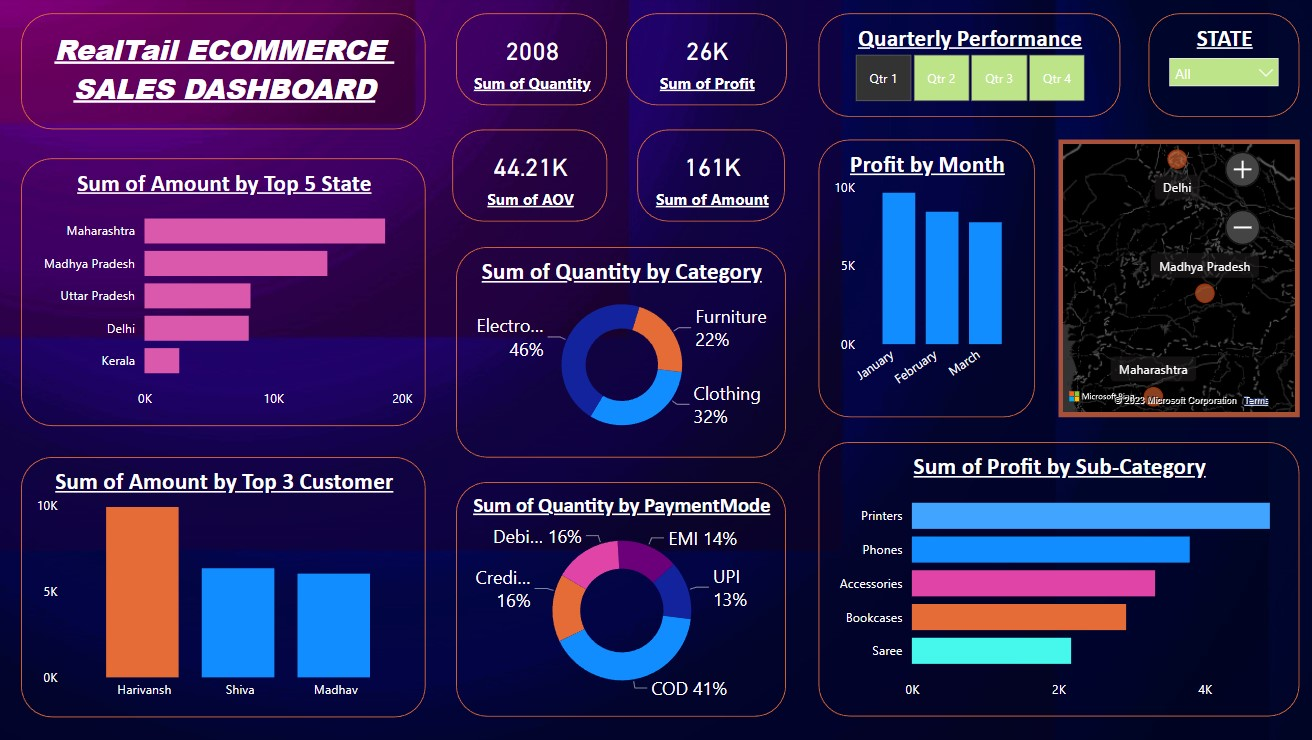

The dashboard page shown, as its layout file describes it:
{"tool":"powerbi","page":{"name":"SALE DASHBOARD","canvas":[1280,720],"ordinal":0},"visuals":[{"type":"columnChart","title":"Profit by Month","fields":{"Y":["Details.Profit"],"Category":["Orders.Order Date.Variation.Date Hierarchy.Month"]},"box":[793.6,137.5,208.6,267.7],"z":0},{"type":"barChart","fields":{"Y":["Details.Profit"],"Category":["Details.Sub-Category"]},"box":[793.1,429.5,463.8,264.8],"z":1000},{"type":"donutChart","fields":{"Y":["Details.Quantity"],"Series":["Details.Category"]},"box":[443.2,241.5,318.4,203.1],"z":2000},{"type":"donutChart","fields":{"Y":["Details.Quantity"],"Category":["Details.PaymentMode"]},"box":[443.2,467.9,318.4,226.4],"z":3000},{"type":"card","fields":{"Values":["Details.Amount"]},"box":[618.9,127.6,142.7,89.2],"z":4000},{"type":"card","fields":{"Values":["Details.AOV"]},"box":[440.5,127.6,149.6,89.2],"z":5000},{"type":"card","fields":{"Values":["Details.Quantity"]},"box":[443.2,15.1,145.5,89.2],"z":6000},{"type":"card","fields":{"Values":["Details.Profit"]},"box":[607.9,15.1,155.1,89.2],"z":7000},{"type":"barChart","title":"Sum of Amount by Top 5 State","fields":{"Category":["Orders.State"],"Y":["Details.Amount"]},"box":[24.1,155.6,390.8,258.1],"z":8000},{"type":"columnChart","title":"Sum of Amount by Top 3  Customer","fields":{"Category":["Orders.CustomerName"],"Y":["Details.Amount"]},"box":[24.1,443.8,390.8,250.9],"z":9000},{"type":"textbox","box":[24.1,15.7,390.8,112.2],"z":10000},{"type":"slicer","title":"STATE","fields":{"Values":["Orders.State"]},"box":[1111.5,15.1,145.5,100.2],"z":11000},{"type":"slicer","title":"Quarterly Performance","fields":{"Values":["Orders.Order Date.Variation.Date Hierarchy.Quarter"]},"box":[793.1,15.1,290.9,100.2],"z":12000},{"type":"map","fields":{"Category":["Orders.State"]},"box":[1025.1,137.5,232.8,267.7],"z":13000}]}

Visuals, with their boxes in screenshot pixels (x1, y1, x2, y2), scaled from the page's 1280x720 canvas onto the 1312x740 screenshot:
"Profit by Month" columnChart: detection(813, 141, 1027, 416)
barChart - Details.Profit x Details.Sub-Category: detection(813, 441, 1288, 714)
donutChart - Details.Quantity x Details.Category: detection(454, 248, 781, 457)
donutChart - Details.Quantity x Details.PaymentMode: detection(454, 481, 781, 714)
card - Details.Amount: detection(634, 131, 781, 223)
card - Details.AOV: detection(452, 131, 605, 223)
card - Details.Quantity: detection(454, 16, 603, 107)
card - Details.Profit: detection(623, 16, 782, 107)
"Sum of Amount by Top 5 State" barChart: detection(25, 160, 425, 425)
"Sum of Amount by Top 3  Customer" columnChart: detection(25, 456, 425, 714)
textbox: detection(25, 16, 425, 131)
"STATE" slicer: detection(1139, 16, 1288, 119)
"Quarterly Performance" slicer: detection(813, 16, 1111, 119)
map - Orders.State: detection(1051, 141, 1289, 416)
